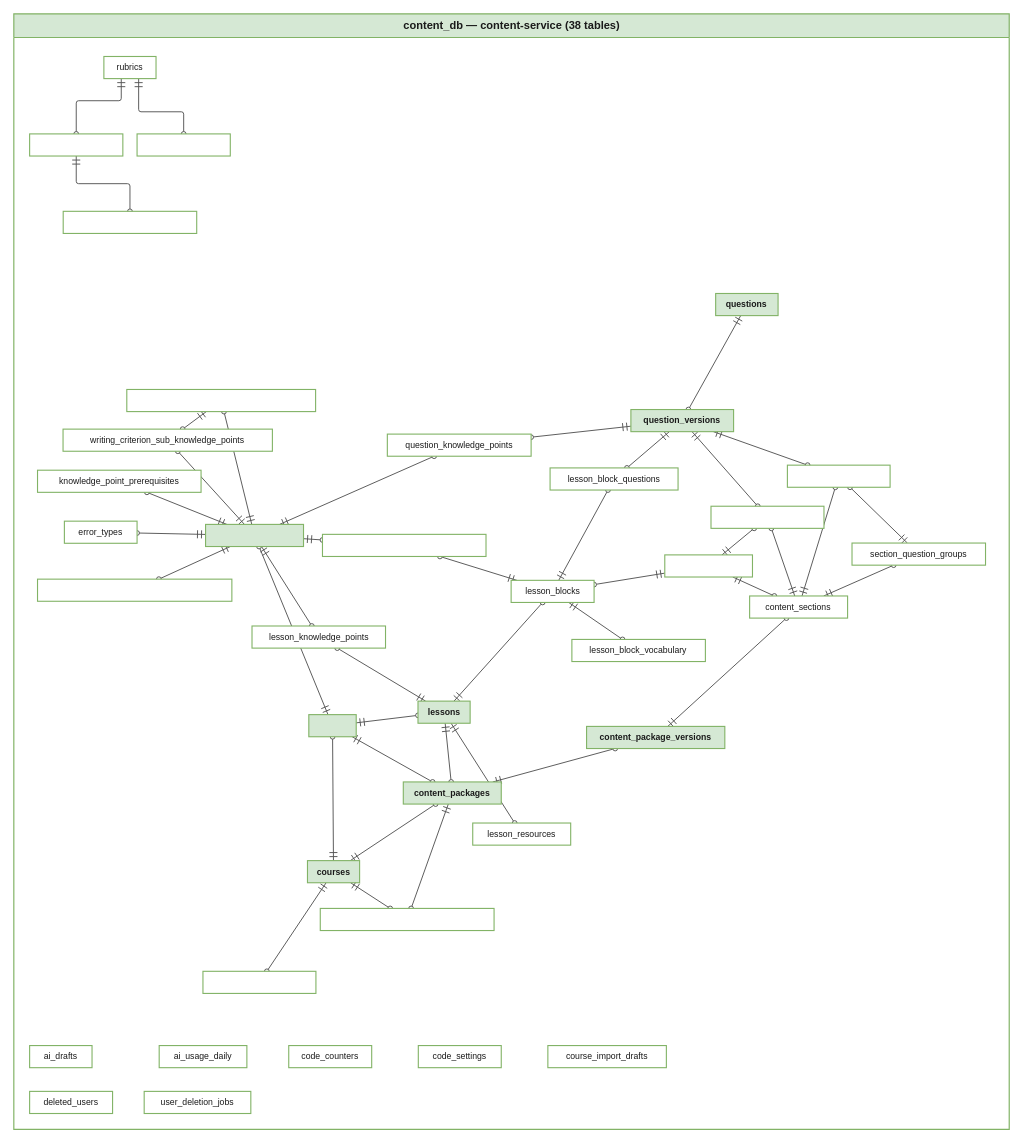
This 1024x1144 diagram has some shape labels left out. Here are the shapes that lost their labels. From the top down, the box of each, then its label:
(29, 133, 123, 156): rubric_criteria
(136, 133, 230, 156): rubric_examples
(62, 210, 197, 234): rubric_band_descriptors
(126, 389, 316, 412): writing_criterion_knowledge_points
(786, 464, 890, 487): section_questions
(205, 523, 304, 547): knowledge_points
(710, 505, 824, 529): content_asset_links
(322, 533, 486, 557): lesson_block_knowledge_points
(664, 554, 753, 577): content_assets
(37, 578, 232, 601): speaking_criterion_knowledge_points
(308, 714, 356, 737): topics
(319, 907, 494, 931): course_practice_test_milestones
(202, 970, 316, 994): course_skill_prices
